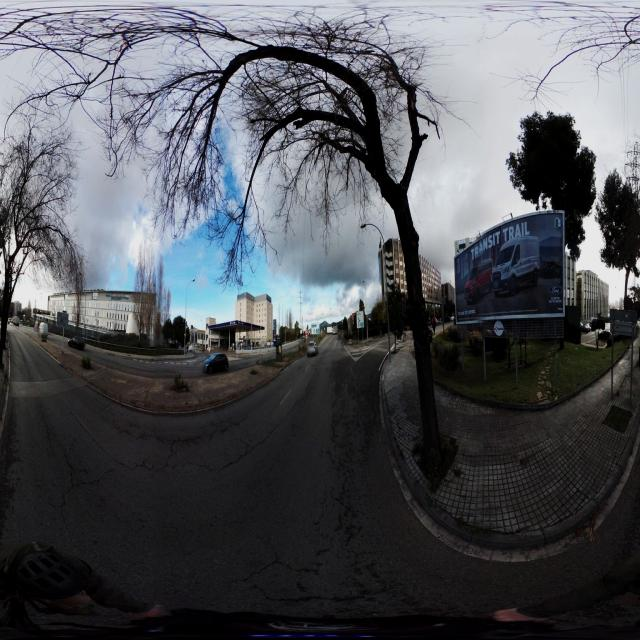car: (468, 316, 511, 355), (203, 351, 229, 374), (68, 328, 86, 350), (307, 341, 318, 357), (39, 320, 49, 336)
